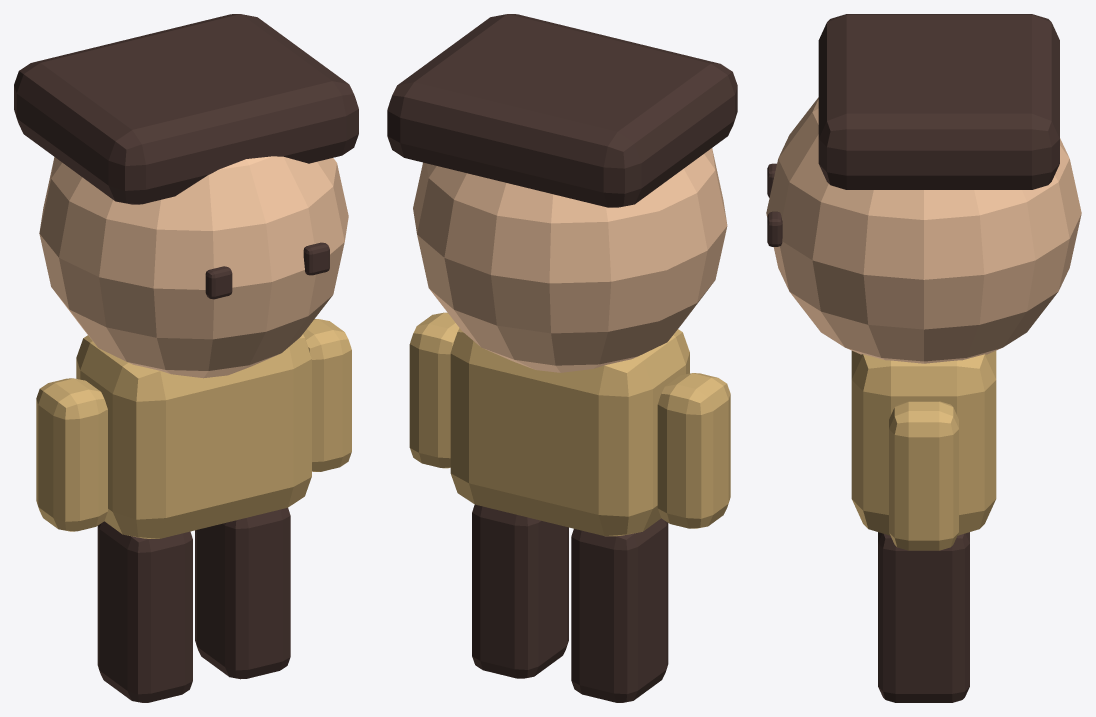
The model's file is kar_warga_yoga.fbx.
3 renders of one model, left to right at view 1: azimuth 30°, elevation 25°; view 2: azimuth 150°, elevation 25°; view 3: azimuth 270°, elevation 25°, orthographic.
Parts seen in each view (by area): view 1: kar_warga_yoga; view 2: kar_warga_yoga; view 3: kar_warga_yoga.
Part boxes in pixels (box(x1,y1,x2,y2)): kar_warga_yoga: box(14, 14, 358, 702); kar_warga_yoga: box(387, 14, 737, 702); kar_warga_yoga: box(766, 14, 1081, 702).
Bounding box in the file's own units: 79 × 152 × 72.
1 material, 1 textured.
